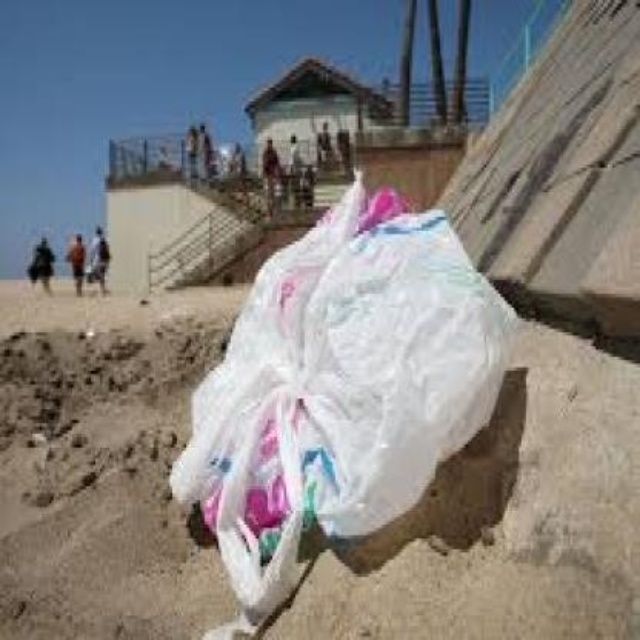trash: (171, 175, 515, 623)
